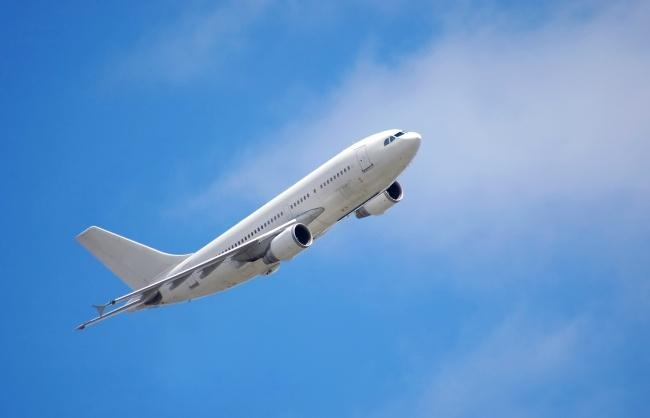airplane: (66, 125, 436, 340)
